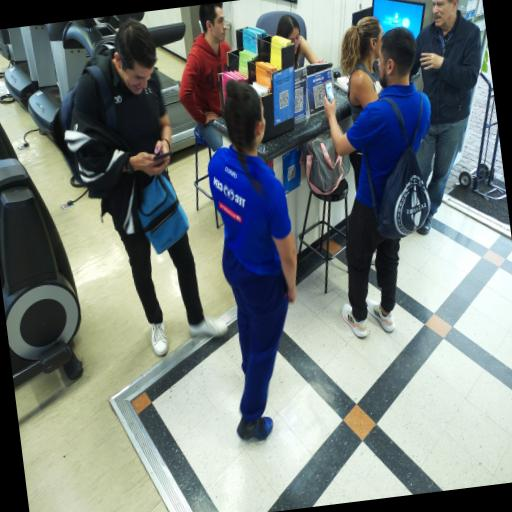person: (64, 19, 171, 356), (208, 81, 296, 439), (324, 28, 429, 210), (411, 0, 480, 235), (179, 2, 230, 151), (340, 17, 382, 121), (275, 14, 322, 68)
